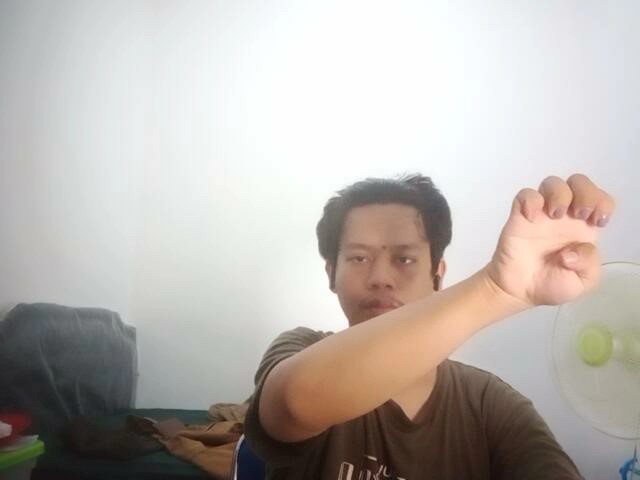E: (487, 163, 623, 312)
